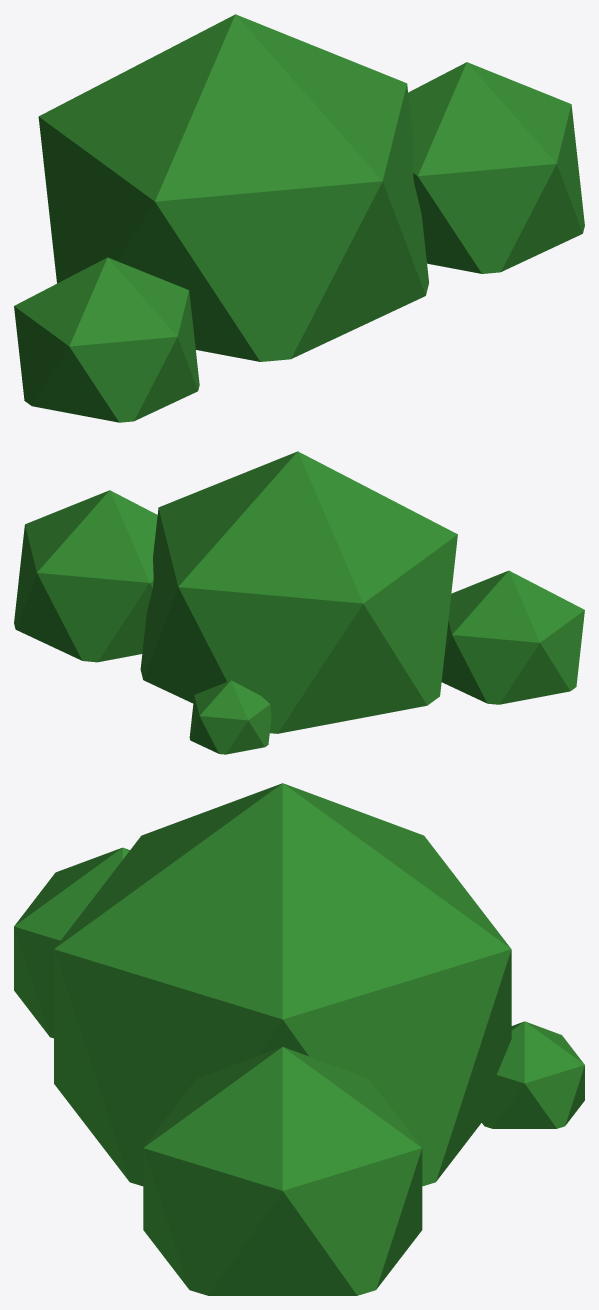
The model's file is Bush.fbx.
The picture shows the model from 3 angles, top to bottom: view 1: azimuth 30°, elevation 25°; view 2: azimuth 150°, elevation 25°; view 3: azimuth 270°, elevation 25°; orthographic projection. The views are drawn at different scales.
Visible parts, largest first — view 1: Icosphere; view 2: Icosphere; view 3: Icosphere.
Boxes of the visible parts, x1,y1,x2,y2 form: Icosphere: (14, 14, 584, 422); Icosphere: (14, 451, 584, 754); Icosphere: (14, 783, 584, 1295).
Bounding box in the file's own units: 191 × 82.14 × 127.
